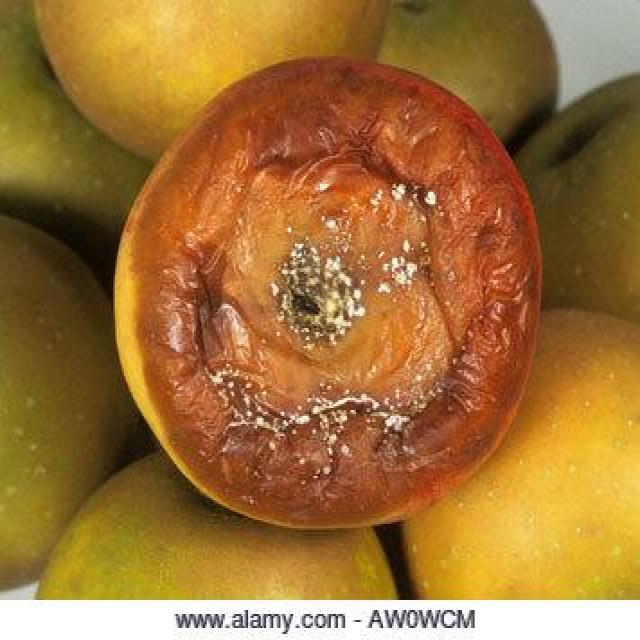Rotten: (114, 55, 538, 530)
